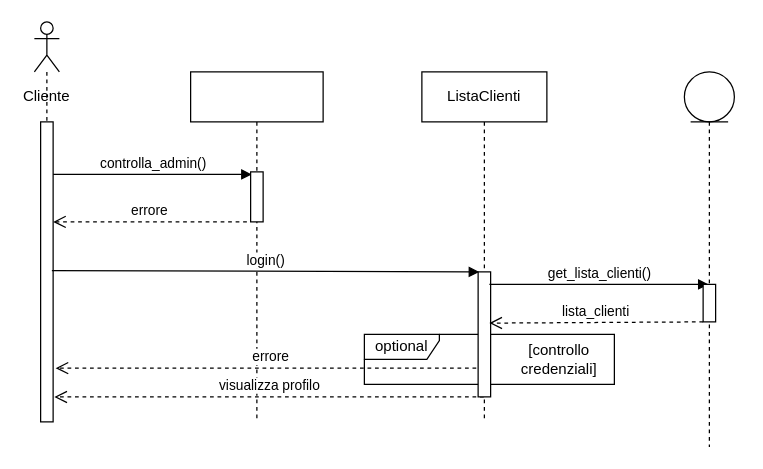
Image size: 763x469. Some labels were removed from this diagram. The shapes that lost their labels are listed below. From the top down, each one's centre as x and y in pixels, then its label:
At point 256,246: "ListaAdmin".
At point 708,259: "Database clienti".
